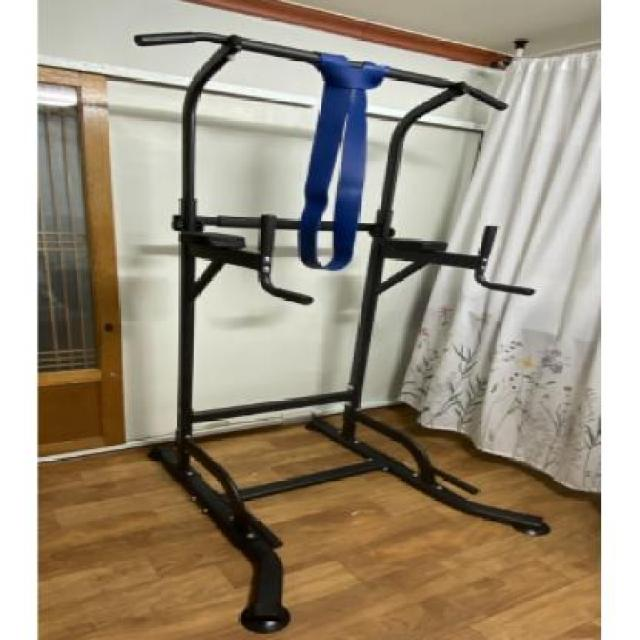chinning dipping: (131, 29, 554, 637)
